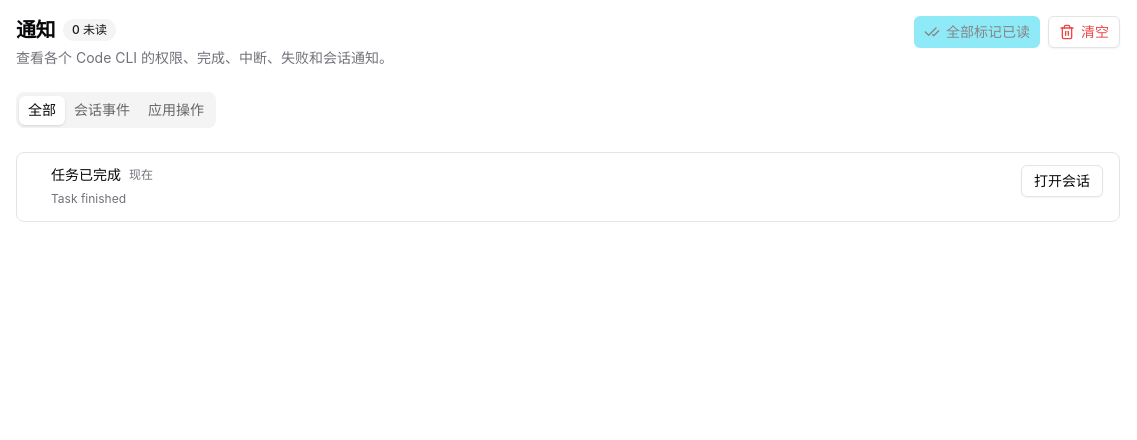
Test: NotificationsPage polish › distinguishes the filtered empty state from the never-had-notifications one
The width and height of the screenshot is (1137, 440).
Expected: the text "暂无通知" is not shown
Radix tabs activate on mouseDown, not click.
Press the mouse on the tab "应用操作": (176, 110) left=139, top=96, right=213, bottom=124
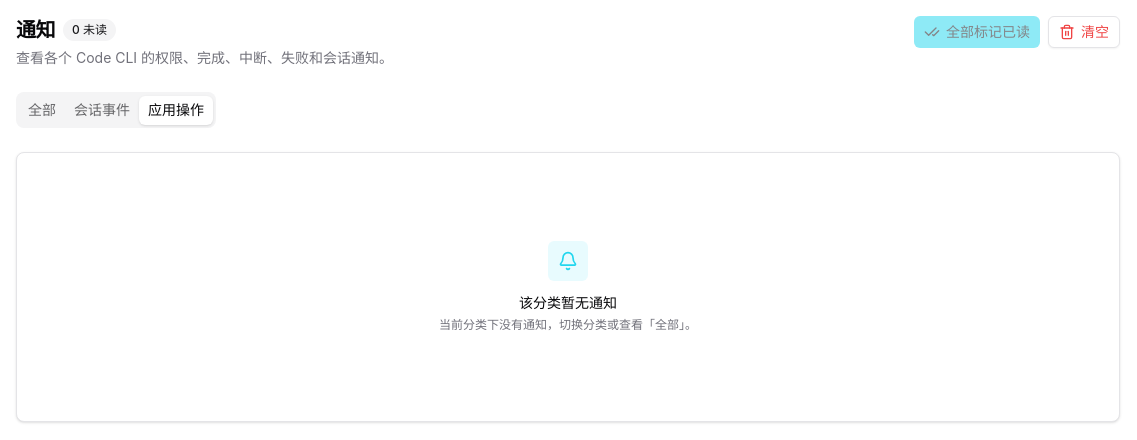
Expected: the text "会话状态变化和各个 Code CLI 的关键事件会显示在这里。" is not shown
Expected: the text "该分类暂无通知" is shown, left=519, top=294, right=617, bottom=311
